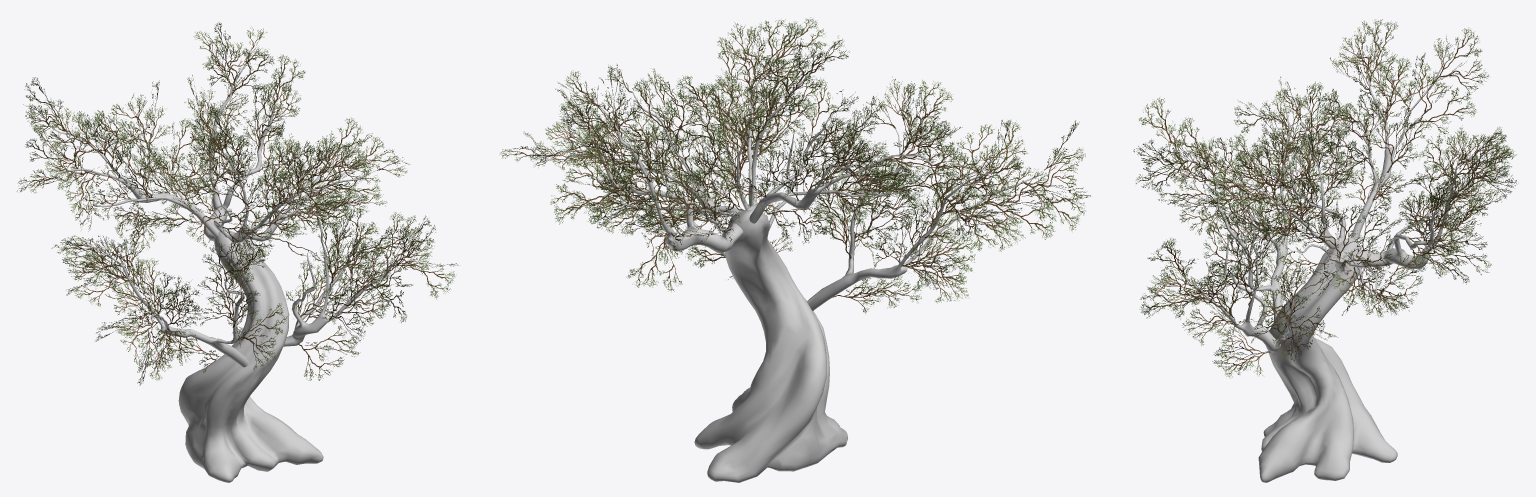
File: SM_MountainTree_01.fbx
The picture shows the model from 3 angles, left to right: view 1: azimuth 30°, elevation 25°; view 2: azimuth 150°, elevation 25°; view 3: azimuth 270°, elevation 25°; orthographic projection. The views are drawn at different scales.
Parts seen in each view (by area): view 1: SM_MountainTree_01_LOD0; view 2: SM_MountainTree_01_LOD0; view 3: SM_MountainTree_01_LOD0.
Boxes of the visible parts, <box> form: SM_MountainTree_01_LOD0: <box>17,22,458,482</box>; SM_MountainTree_01_LOD0: <box>500,17,1090,482</box>; SM_MountainTree_01_LOD0: <box>1133,19,1516,482</box>.
Bounding box in the file's own units: 828 × 698 × 724.
